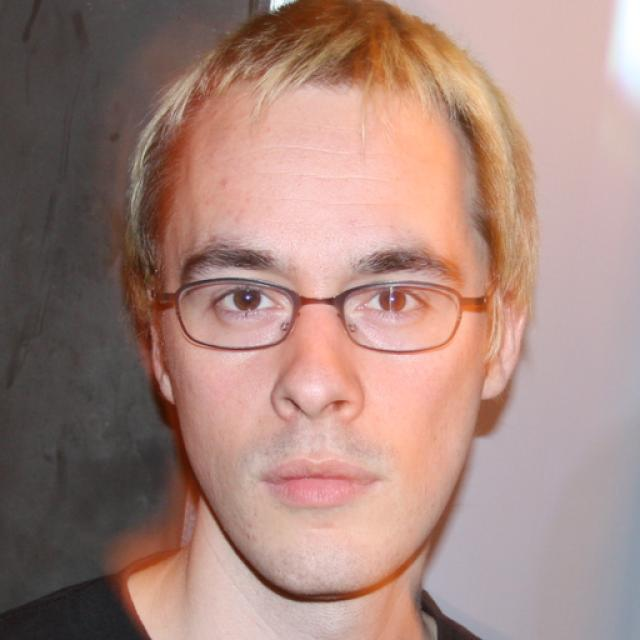Acne: (213, 177, 236, 197)
